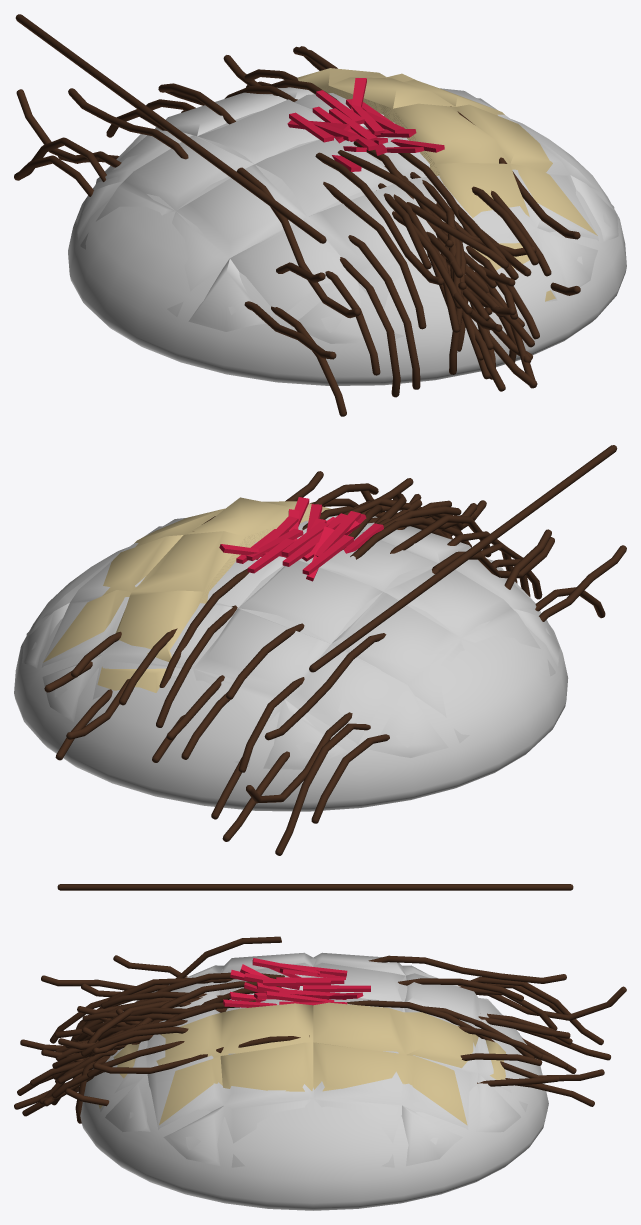
File: yakimelon.fbx
3 views of the same model, one above another, from view 1: azimuth 30°, elevation 25°; view 2: azimuth 150°, elevation 25°; view 3: azimuth 270°, elevation 25° (orthographic). The views are drawn at different scales.
Visible parts, largest first — view 1: 繝｡繝ｭ繝ｳ繝代Φ_bk2, 繝｡繝ｭ繝ｳ繝代Φ_bk, 辟ｼ縺阪◎縺ｰ_37, 繝｡繝ｭ繝ｳ繝代Φ, 辟ｼ縺阪◎縺ｰ_bk, 辟ｼ縺阪◎縺ｰ_8, 辟ｼ縺阪◎縺ｰ_15, 辟ｼ縺阪◎縺ｰ_31, 辟ｼ縺阪◎縺ｰ_26, 辟ｼ縺阪◎縺ｰ_7, 辟ｼ縺阪◎縺ｰ_32, 辟ｼ縺阪◎縺ｰ_9 (+4 smaller); view 2: 繝｡繝ｭ繝ｳ繝代Φ_bk2, 繝｡繝ｭ繝ｳ繝代Φ_bk, 辟ｼ縺阪◎縺ｰ_37, 繝｡繝ｭ繝ｳ繝代Φ, 辟ｼ縺阪◎縺ｰ_bk, 邏⒤す繝ｧ繧ｦ繧ｬ_13, 邏⒤す繝ｧ繧ｦ繧ｬ_19; view 3: 繝｡繝ｭ繝ｳ繝代Φ_bk, 繝｡繝ｭ繝ｳ繝代Φ_bk2, 繝｡繝ｭ繝ｳ繝代Φ, 辟ｼ縺阪◎縺ｰ_37, 辟ｼ縺阪◎縺ｰ_bk, 辟ｼ縺阪◎縺ｰ_8, 辟ｼ縺阪◎縺ｰ_26, 辟ｼ縺阪◎縺ｰ_15, 辟ｼ縺阪◎縺ｰ_20, 邏⒤す繝ｧ繧ｦ繧ｬ_18, 邏⒤す繝ｧ繧ｦ繧ｬ_17, 辟ｼ縺阪◎縺ｰ_10.
Boxes of the visible parts, bbox=[...] form: 繝｡繝ｭ繝ｳ繝代Φ_bk2: bbox=[76, 87, 618, 343]; 繝｡繝ｭ繝ｳ繝代Φ_bk: bbox=[68, 104, 626, 385]; 辟ｼ縺阪◎縺ｰ_37: bbox=[14, 46, 580, 416]; 繝｡繝ｭ繝ｳ繝代Φ: bbox=[297, 68, 597, 301]; 辟ｼ縺阪◎縺ｰ_bk: bbox=[15, 14, 326, 243]; 辟ｼ縺阪◎縺ｰ_8: bbox=[337, 150, 536, 256]; 辟ｼ縺阪◎縺ｰ_15: bbox=[406, 202, 508, 268]; 辟ｼ縺阪◎縺ｰ_31: bbox=[398, 153, 476, 236]; 辟ｼ縺阪◎縺ｰ_26: bbox=[376, 190, 431, 269]; 辟ｼ縺阪◎縺ｰ_7: bbox=[449, 221, 466, 374]; 辟ｼ縺阪◎縺ｰ_32: bbox=[446, 201, 518, 280]; 辟ｼ縺阪◎縺ｰ_9: bbox=[410, 172, 462, 315]; 繝｡繝ｭ繝ｳ繝代Φ_bk2: bbox=[22, 515, 559, 769]; 繝｡繝ｭ繝ｳ繝代Φ_bk: bbox=[14, 541, 568, 811]; 辟ｼ縺阪◎縺ｰ_37: bbox=[44, 471, 626, 855]; 繝｡繝ｭ繝ｳ繝代Φ: bbox=[43, 497, 330, 692]; 辟ｼ縺阪◎縺ｰ_bk: bbox=[309, 445, 617, 672]; 邏⒤す繝ｧ繧ｦ繧ｬ_13: bbox=[302, 535, 353, 575]; 邏⒤す繝ｧ繧ｦ繧ｬ_19: bbox=[313, 511, 360, 556]; 繝｡繝ｭ繝ｳ繝代Φ_bk: bbox=[80, 957, 548, 1210]; 繝｡繝ｭ繝ｳ繝代Φ_bk2: bbox=[99, 952, 527, 1167]; 繝｡繝ｭ繝ｳ繝代Φ: bbox=[98, 1002, 505, 1125]; 辟ｼ縺阪◎縺ｰ_37: bbox=[39, 936, 626, 1106]; 辟ｼ縺阪◎縺ｰ_bk: bbox=[57, 884, 573, 890]; 辟ｼ縺阪◎縺ｰ_8: bbox=[92, 981, 256, 1053]; 辟ｼ縺阪◎縺ｰ_26: bbox=[101, 991, 206, 1008]; 辟ｼ縺阪◎縺ｰ_15: bbox=[87, 1000, 190, 1043]; 辟ｼ縺阪◎縺ｰ_20: bbox=[22, 1049, 117, 1116]; 邏⒤す繝ｧ繧ｦ繧ｬ_18: bbox=[263, 979, 330, 986]; 邏⒤す繝ｧ繧ｦ繧ｬ_17: bbox=[303, 985, 370, 992]; 辟ｼ縺阪◎縺ｰ_10: bbox=[77, 1013, 175, 1041].
Size of the model in its own units: 600 by 226 by 780.
